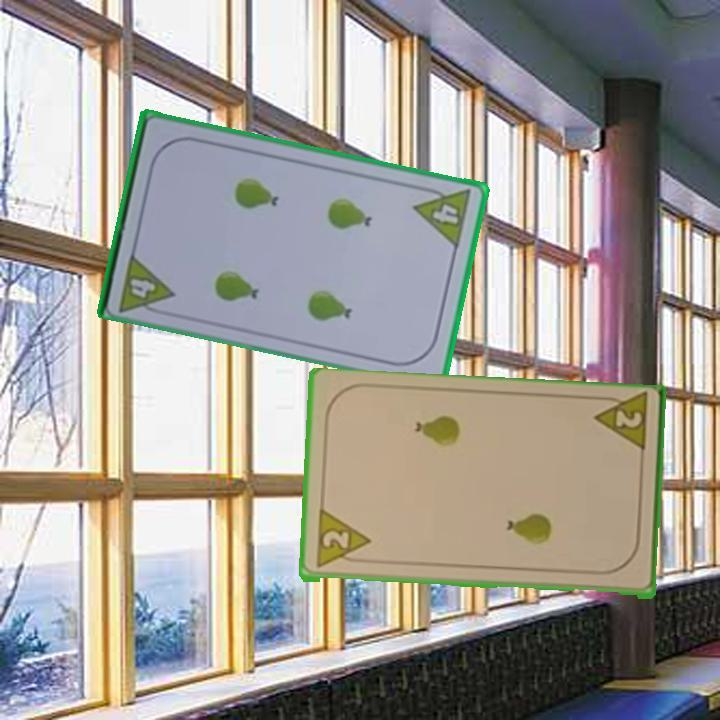2p: (311, 508, 373, 572), (590, 392, 650, 458)
4p: (410, 181, 474, 251), (115, 248, 177, 319)
